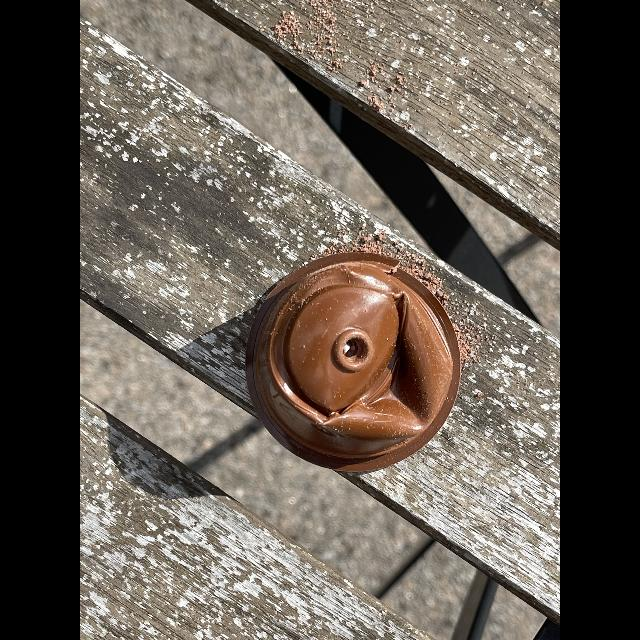damaged_capsule: (235, 248, 468, 480)
